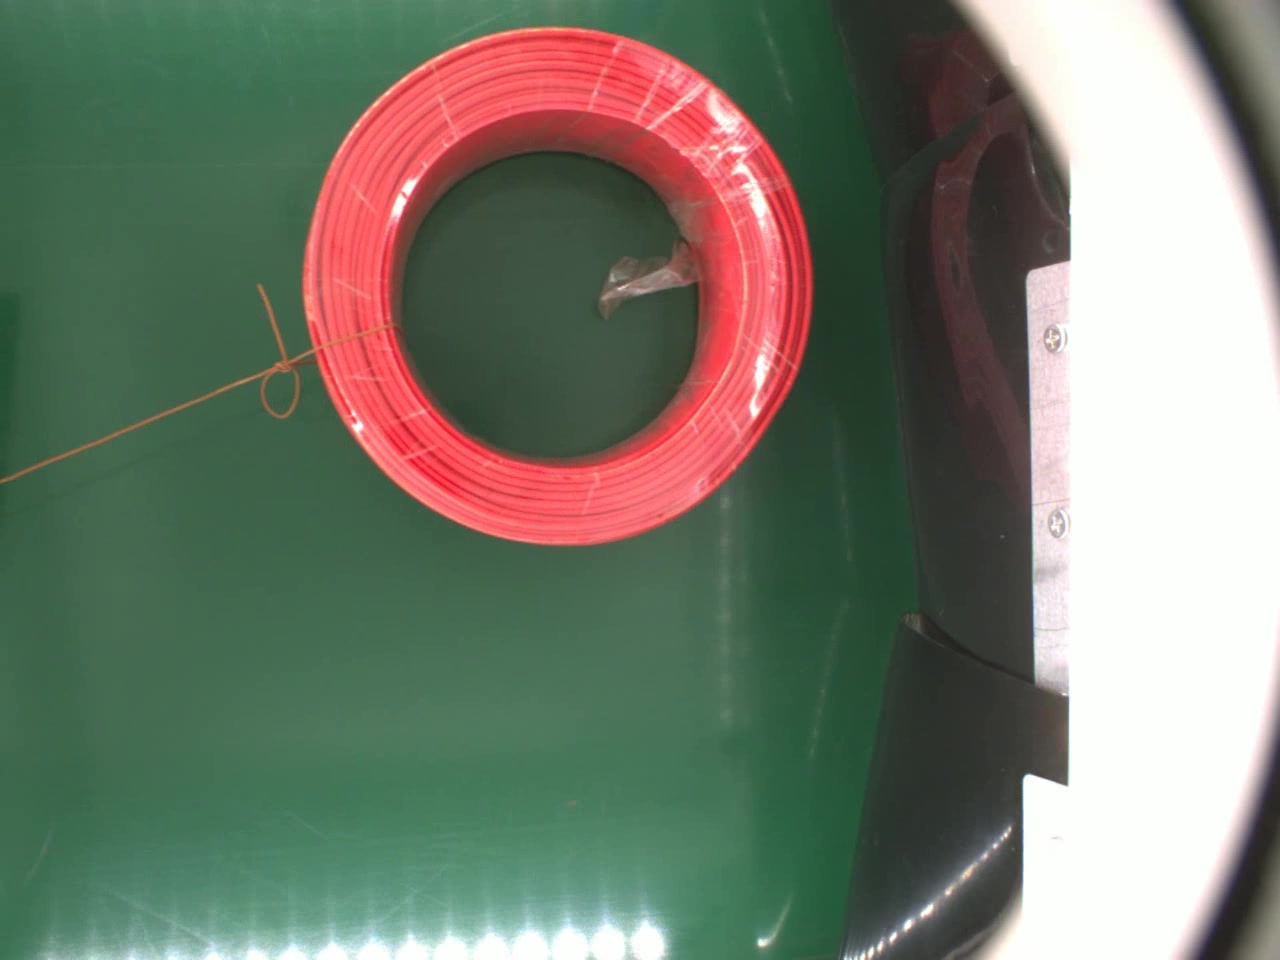red: (299, 23, 817, 548)
